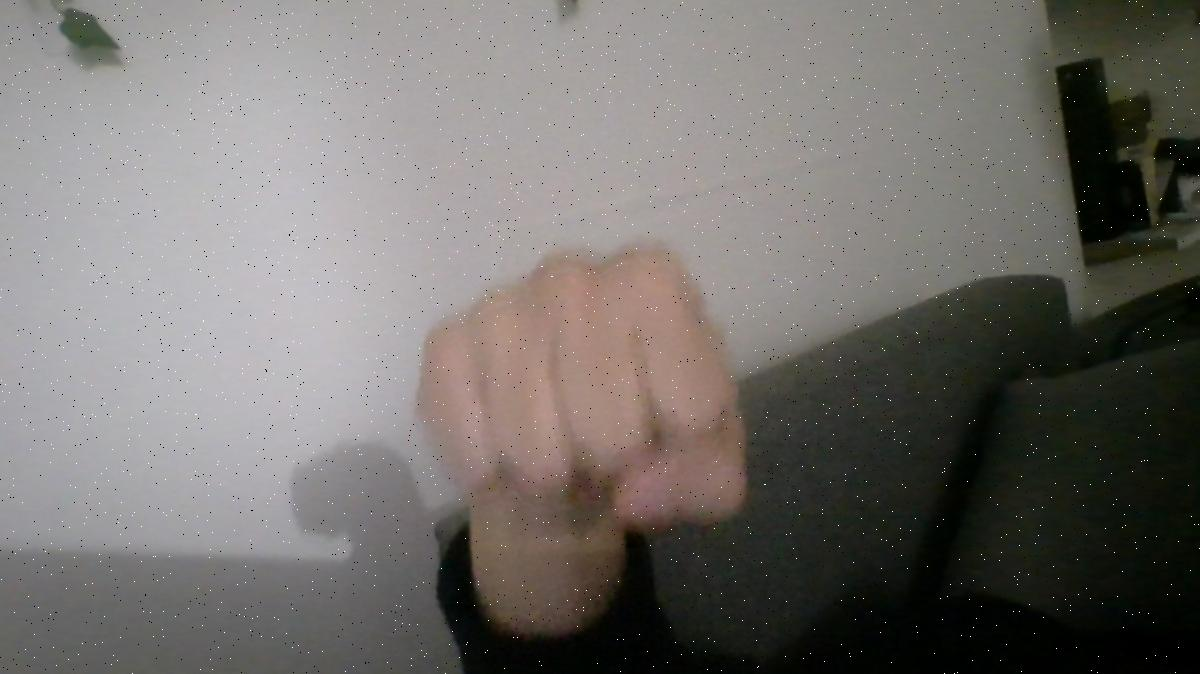stop: (379, 199, 767, 556)
